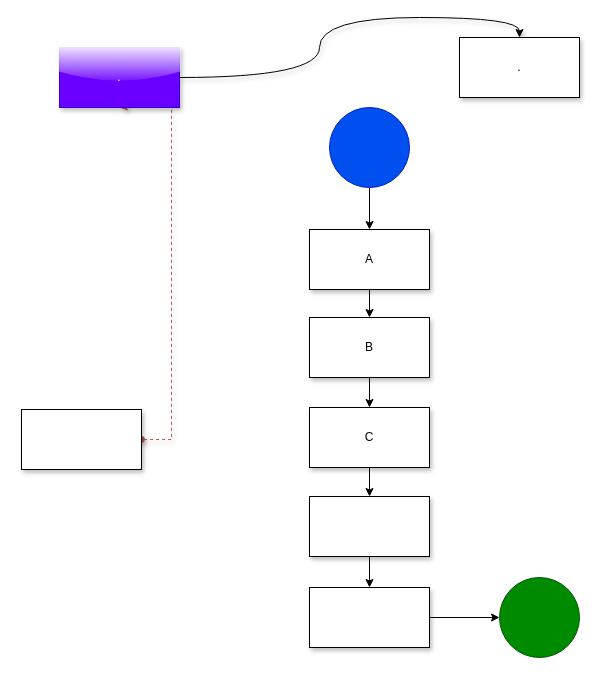
Image size: 603x675. Some labels were removed from this diagram. Here are the shapes that lost their labels. From the top down, the centre of each, then its label:
At (x=369, y=147): "begin".
At (x=539, y=617): "end".
